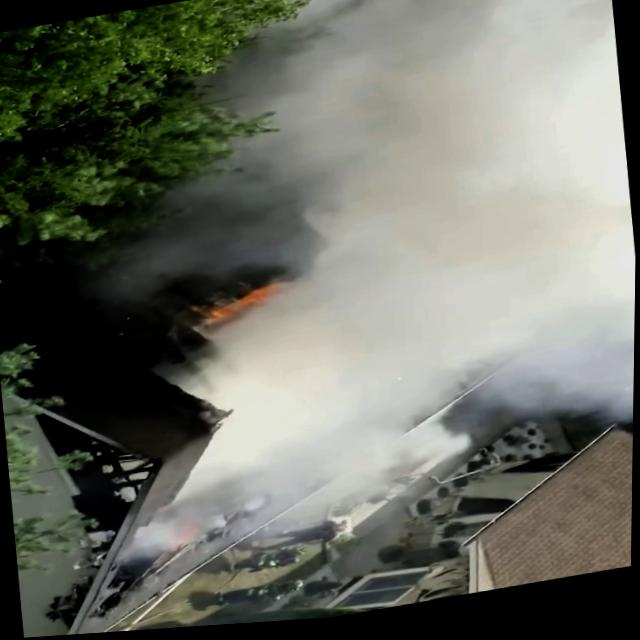smoke: (376, 4, 640, 404)
